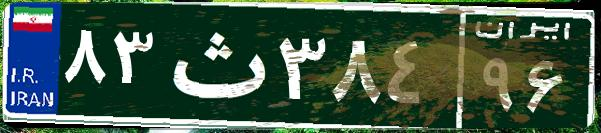3: (273, 28, 330, 110), (110, 28, 158, 105)
4: (385, 28, 445, 110)
6: (525, 38, 570, 115)
8: (330, 28, 385, 110), (57, 26, 110, 107)
9: (475, 38, 525, 113)
ث: (158, 15, 273, 115)
